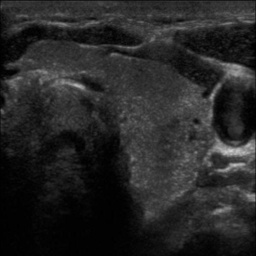mass: (158, 114, 208, 200)
